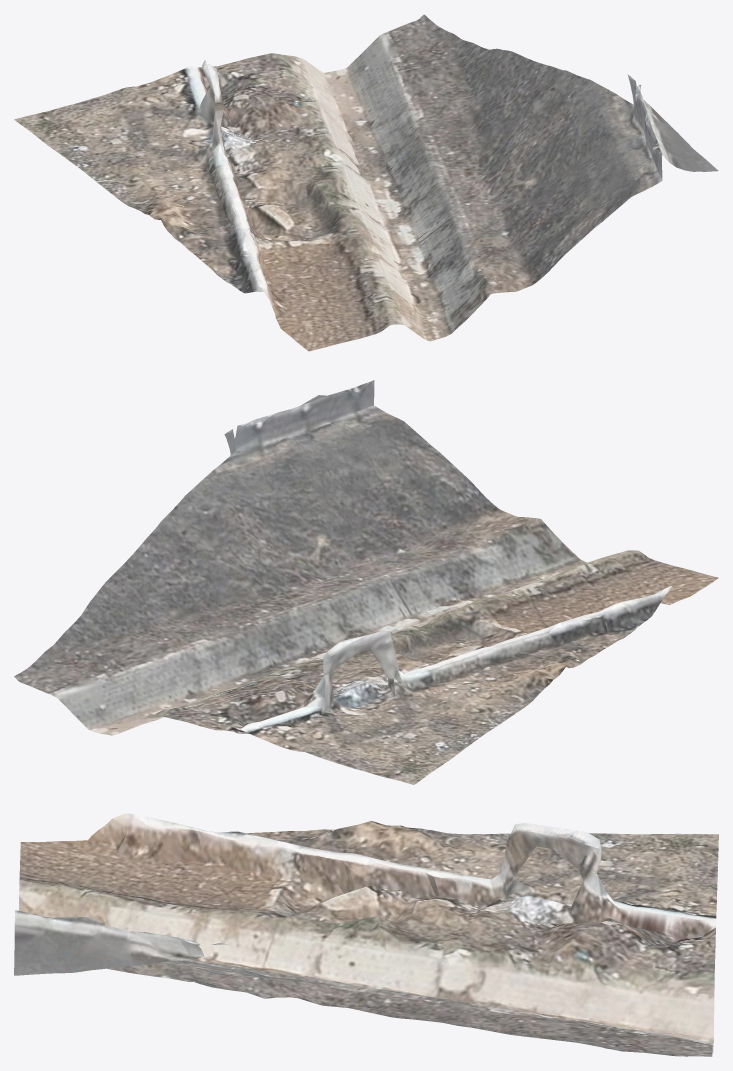
Rendered from Tile_+009_+006_L21_0uuuu322.glb.
The picture shows the model from 3 angles, top to bottom: view 1: azimuth 30°, elevation 25°; view 2: azimuth 150°, elevation 25°; view 3: azimuth 270°, elevation 25°; orthographic projection. The views are drawn at different scales.
Visible parts, largest first — view 1: rtc; view 2: rtc; view 3: rtc.
Boxes of the visible parts, <box> form: rtc: <box>14,14,718,351</box>; rtc: <box>14,380,718,784</box>; rtc: <box>14,813,718,1056</box>.
Size of the model in its own units: 15.04 by 4.65 by 19.16.
Materials: 1 (1 with a texture image).
